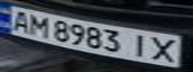3: (103, 26, 127, 55)
8: (48, 18, 72, 44), (84, 24, 106, 52)
9: (66, 20, 87, 47)
A: (3, 7, 33, 33)
I: (124, 30, 154, 59)
M: (24, 11, 54, 37)
X: (145, 34, 184, 64)
